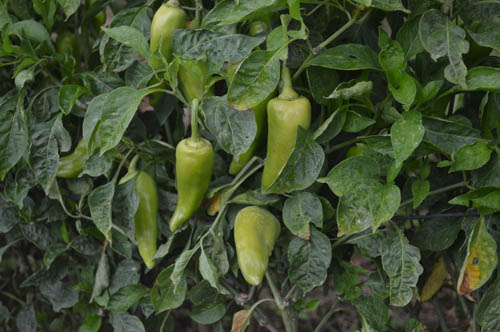ChiliPepper: (266, 98, 313, 193), (167, 137, 210, 228), (235, 207, 280, 285), (149, 7, 182, 98), (125, 176, 157, 269), (181, 64, 217, 115)
